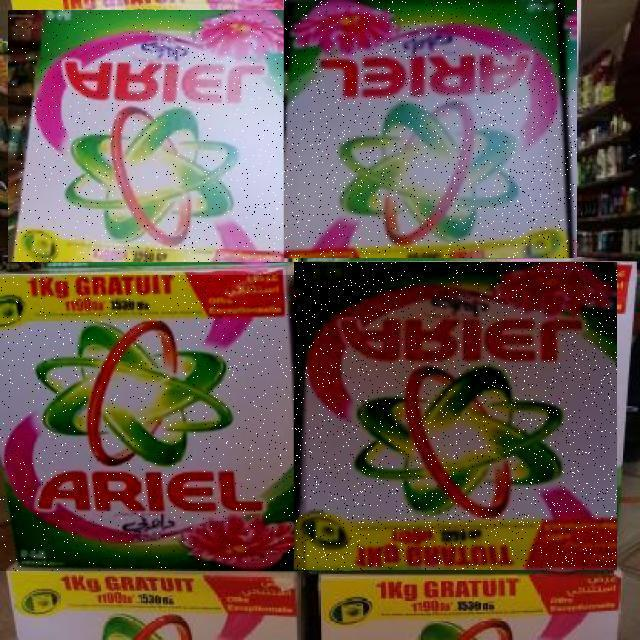Detergent: (294, 262, 617, 570), (0, 275, 306, 571), (284, 0, 577, 258), (8, 10, 298, 262)
